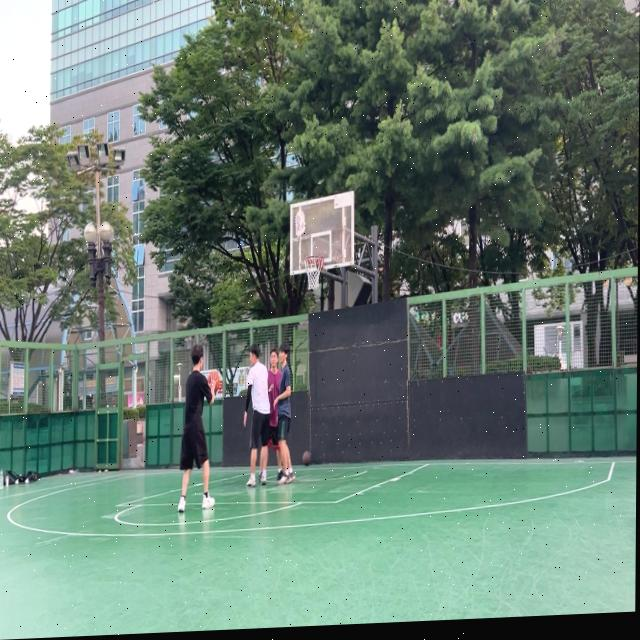basketball: (207, 371, 219, 393), (302, 450, 312, 467)
hoop: (303, 254, 324, 291)
